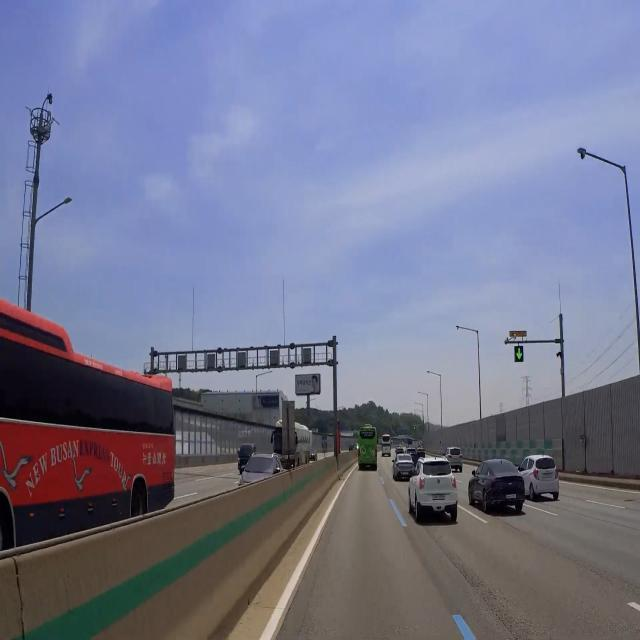car: (539, 472, 555, 487), (430, 491, 449, 502), (505, 490, 520, 503), (401, 467, 411, 483)
